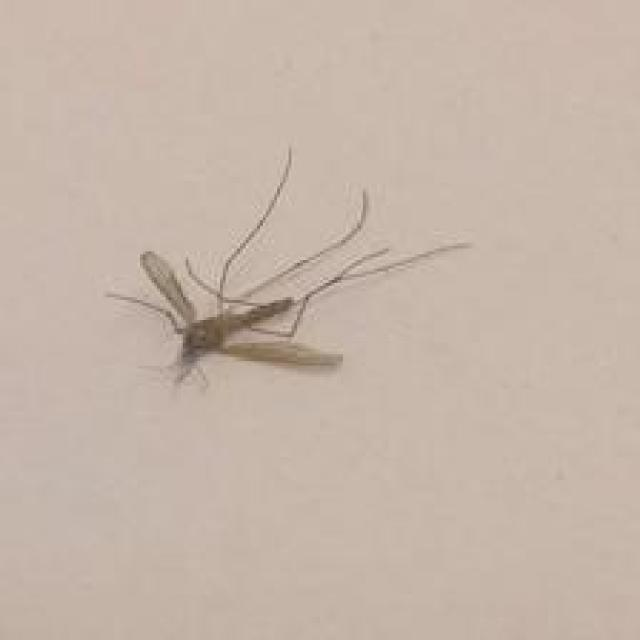Culex: (104, 143, 473, 391)
